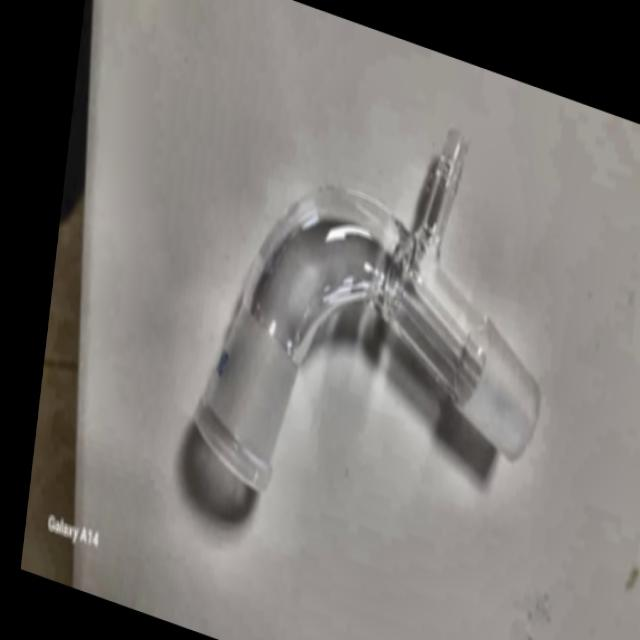Angled Extension for Vacuum Distillation: (168, 46, 574, 596)
